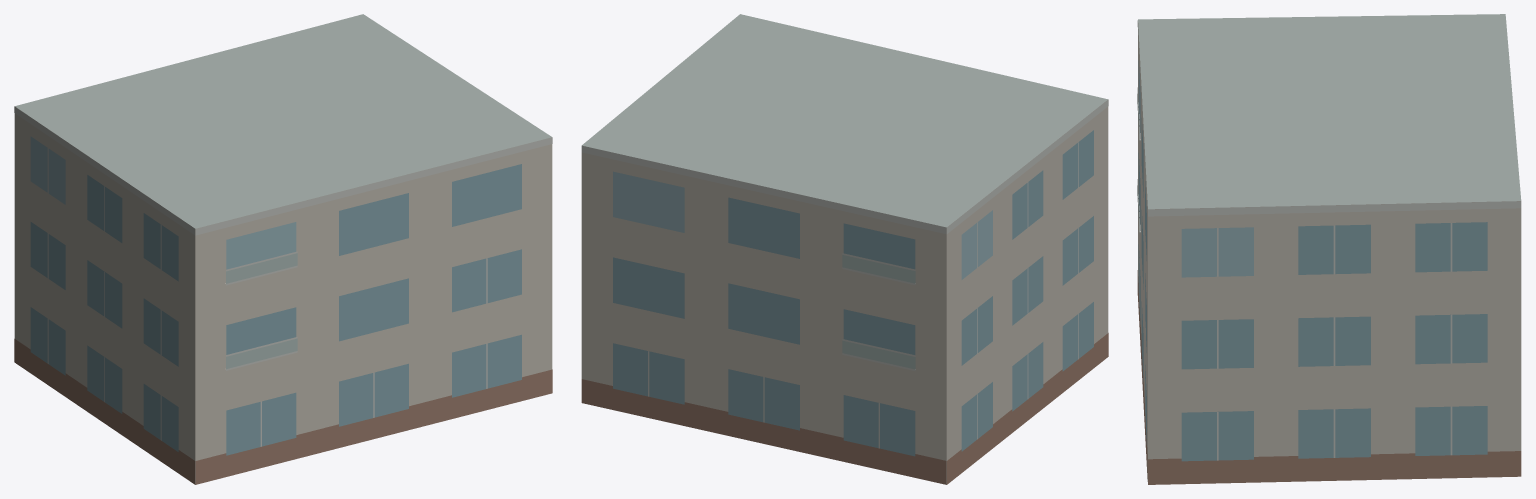
The model's file is survey-upis-32803120.glb.
3 renders of one model, left to right at view 1: azimuth 30°, elevation 25°; view 2: azimuth 150°, elevation 25°; view 3: azimuth 270°, elevation 25°, orthographic. The views are drawn at different scales.
Visible parts, largest first — view 1: survey-upis-32803120.tmp; view 2: survey-upis-32803120.tmp; view 3: survey-upis-32803120.tmp.
Part boxes in pixels (left/top/right/bottom): survey-upis-32803120.tmp: left=14, top=14, right=552, bottom=484; survey-upis-32803120.tmp: left=581, top=14, right=1108, bottom=484; survey-upis-32803120.tmp: left=1137, top=14, right=1521, bottom=484.
Bounding box in the file's own units: 13.91 × 9.15 × 11.55.
